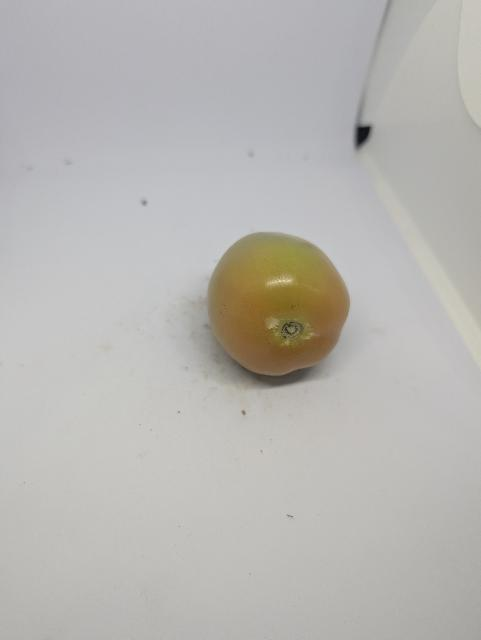turning: (196, 225, 356, 388)
